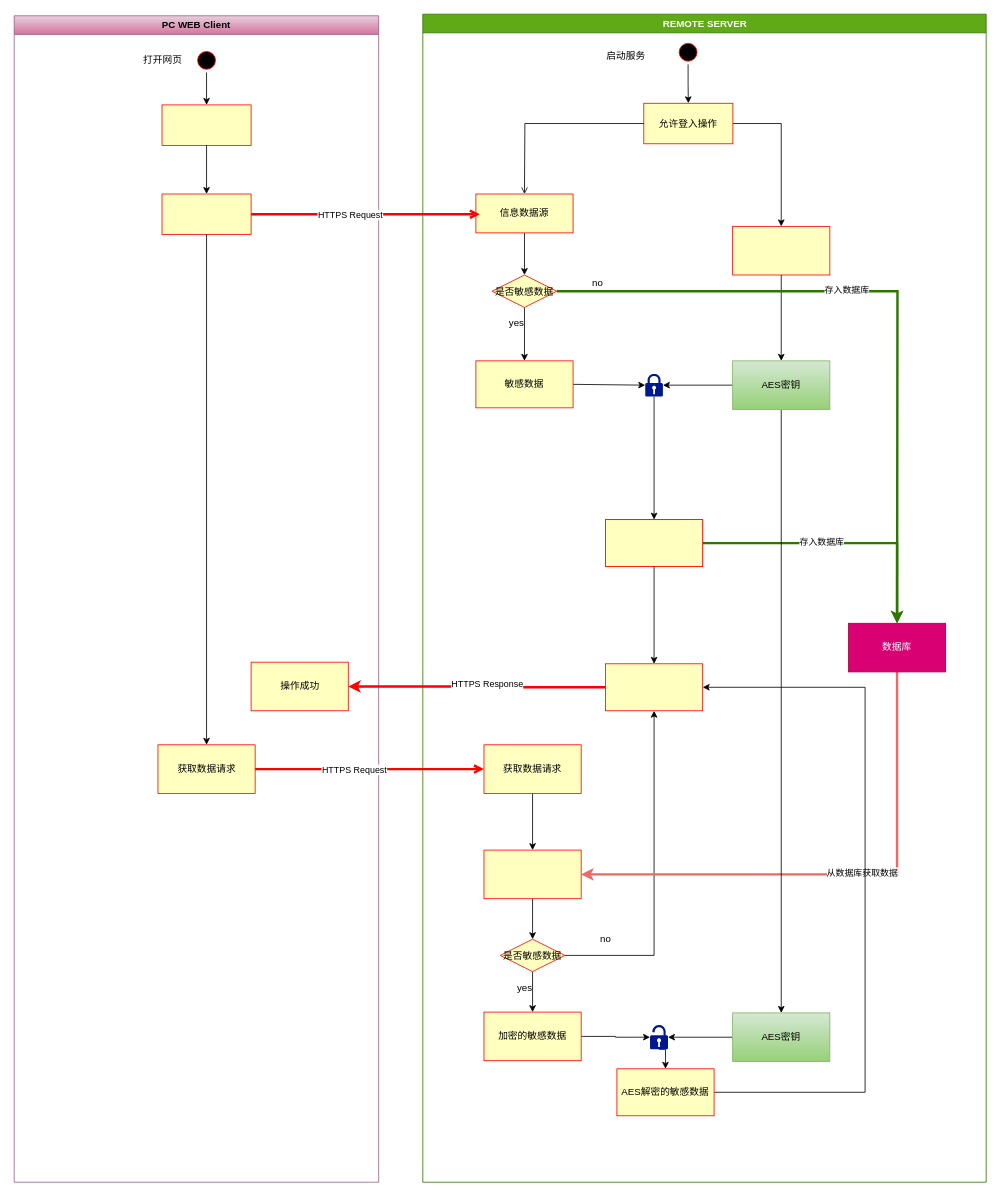
Image size: 1000x1196. Some labels were removed from this diagram. Each missing label, with the centre of its shape:
"AES加密的敏感数据" goes at point 654,543.
"保存数据请求" goes at point 206,213.
"加密" goes at point 653,384.
"登入成功/认证成功" goes at point 206,124.
"获取的数据" goes at point 532,874.
"解密" goes at point 659,1037.
"读取密钥" goes at point 781,250.
"返回成功" goes at point 654,687.
